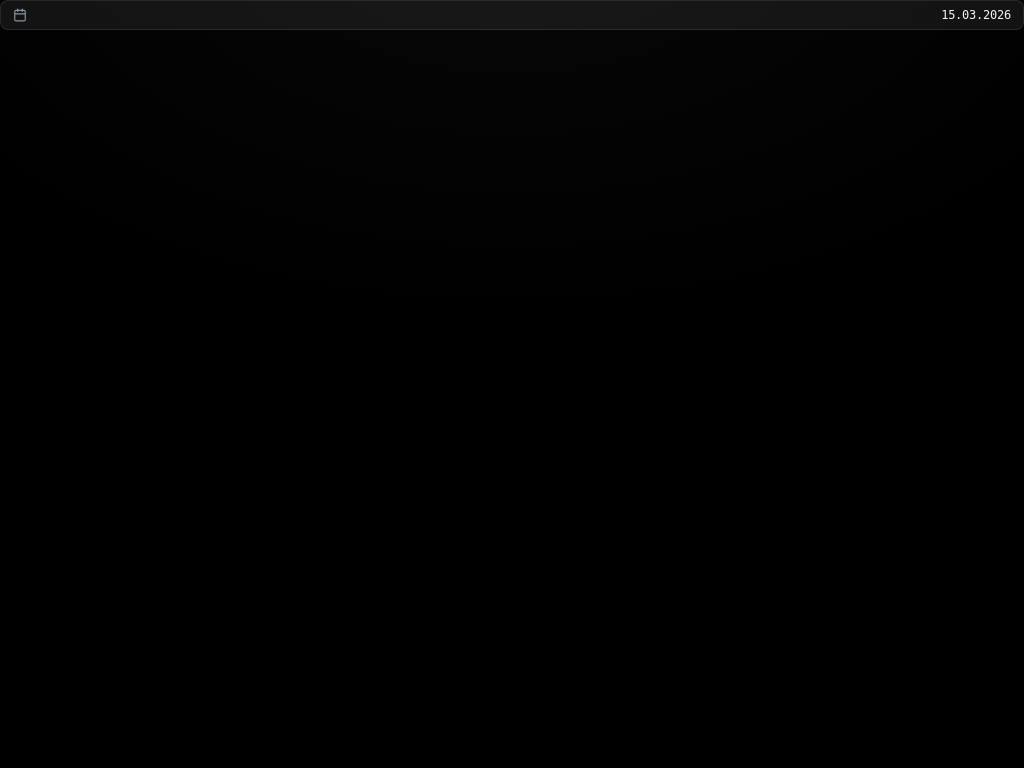
Test: DateField › blocks days outside min/max and walks months
Later steps or results of the test are not shown.
Step 1. Click the button "15.03.2026" → x=976, y=15, box [0,0,1023,30]
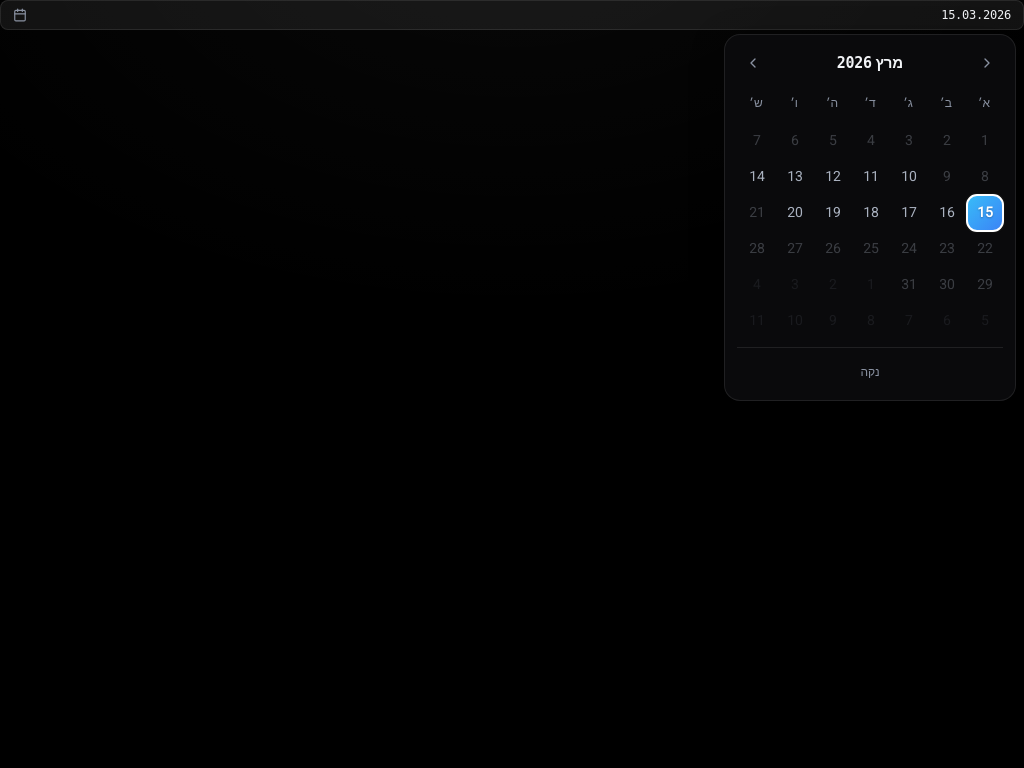
expect the cell named "9 במרץ 2026" is disabled: met
expect the cell named "21 במרץ 2026" is disabled: met, box [739,195,775,231]
Step 2. Click the cell named "9 במרץ 2026" → x=947, y=177, box [929,159,965,195]
Step 3. Click the button named "חודש הבא" → x=753, y=63, box [737,47,769,79]
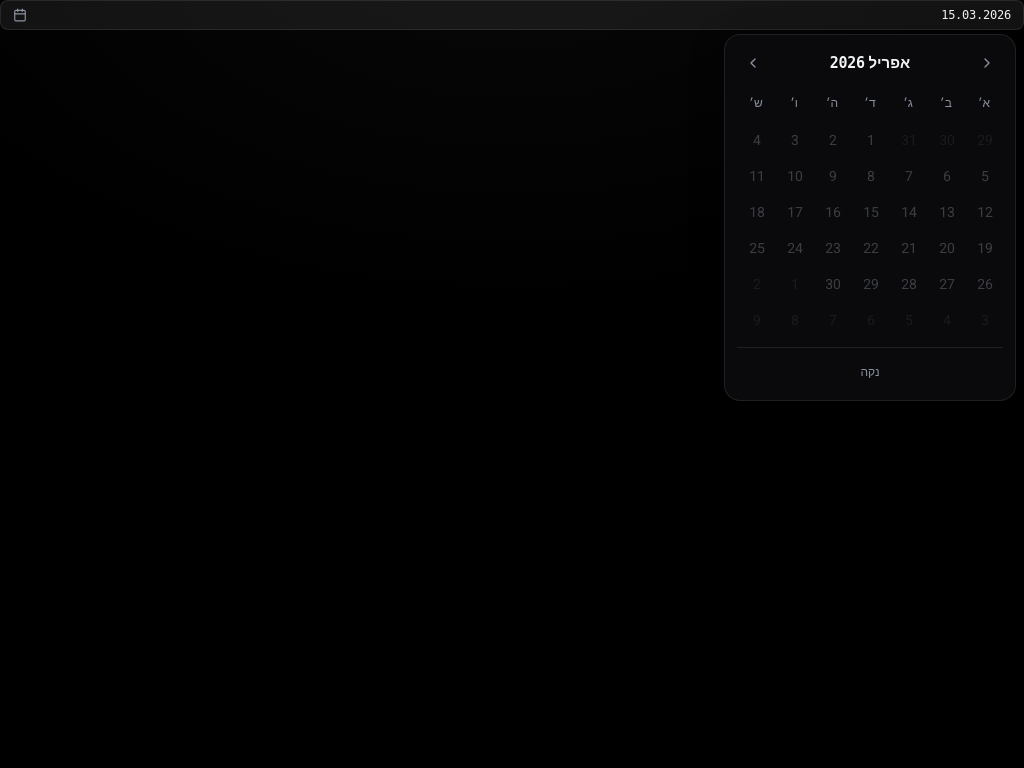
expect the dialog shows "אפריל": met, box [868,52,910,74]
